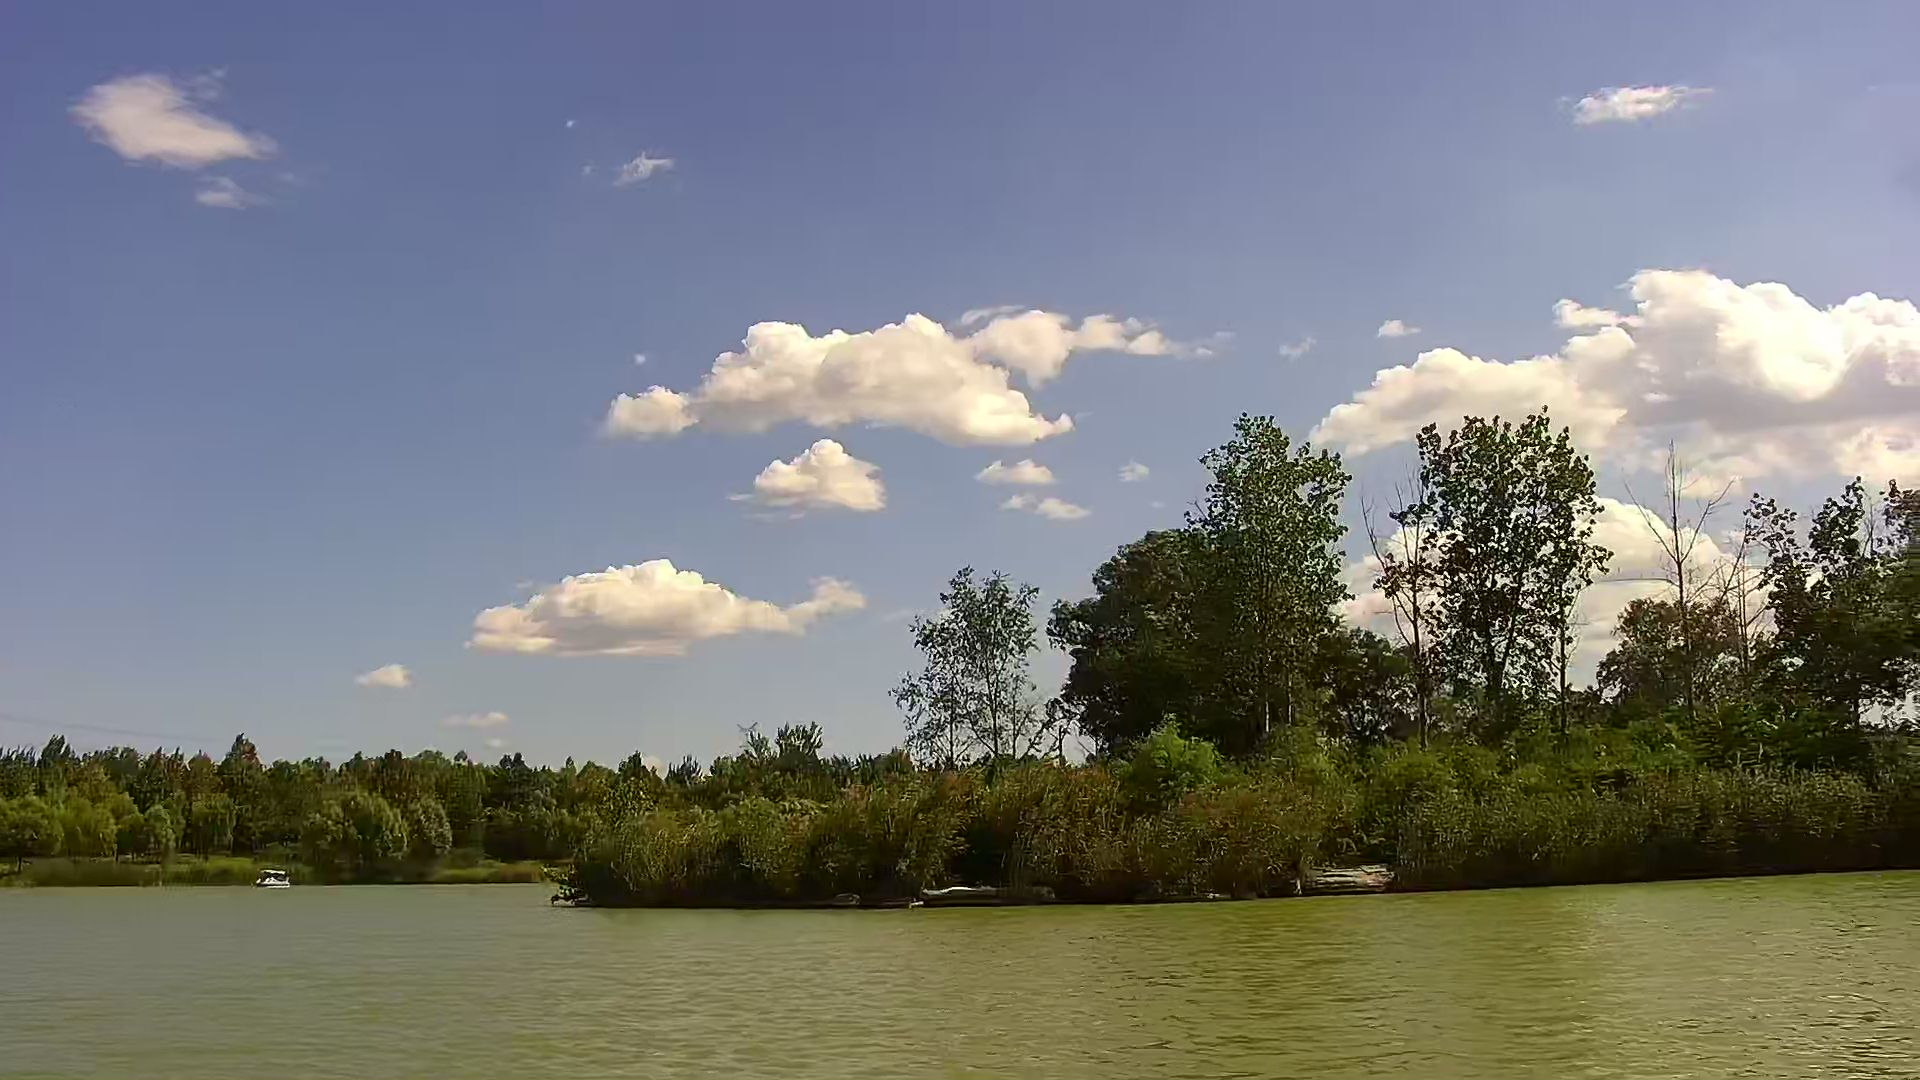boat: (252, 865, 295, 891)
